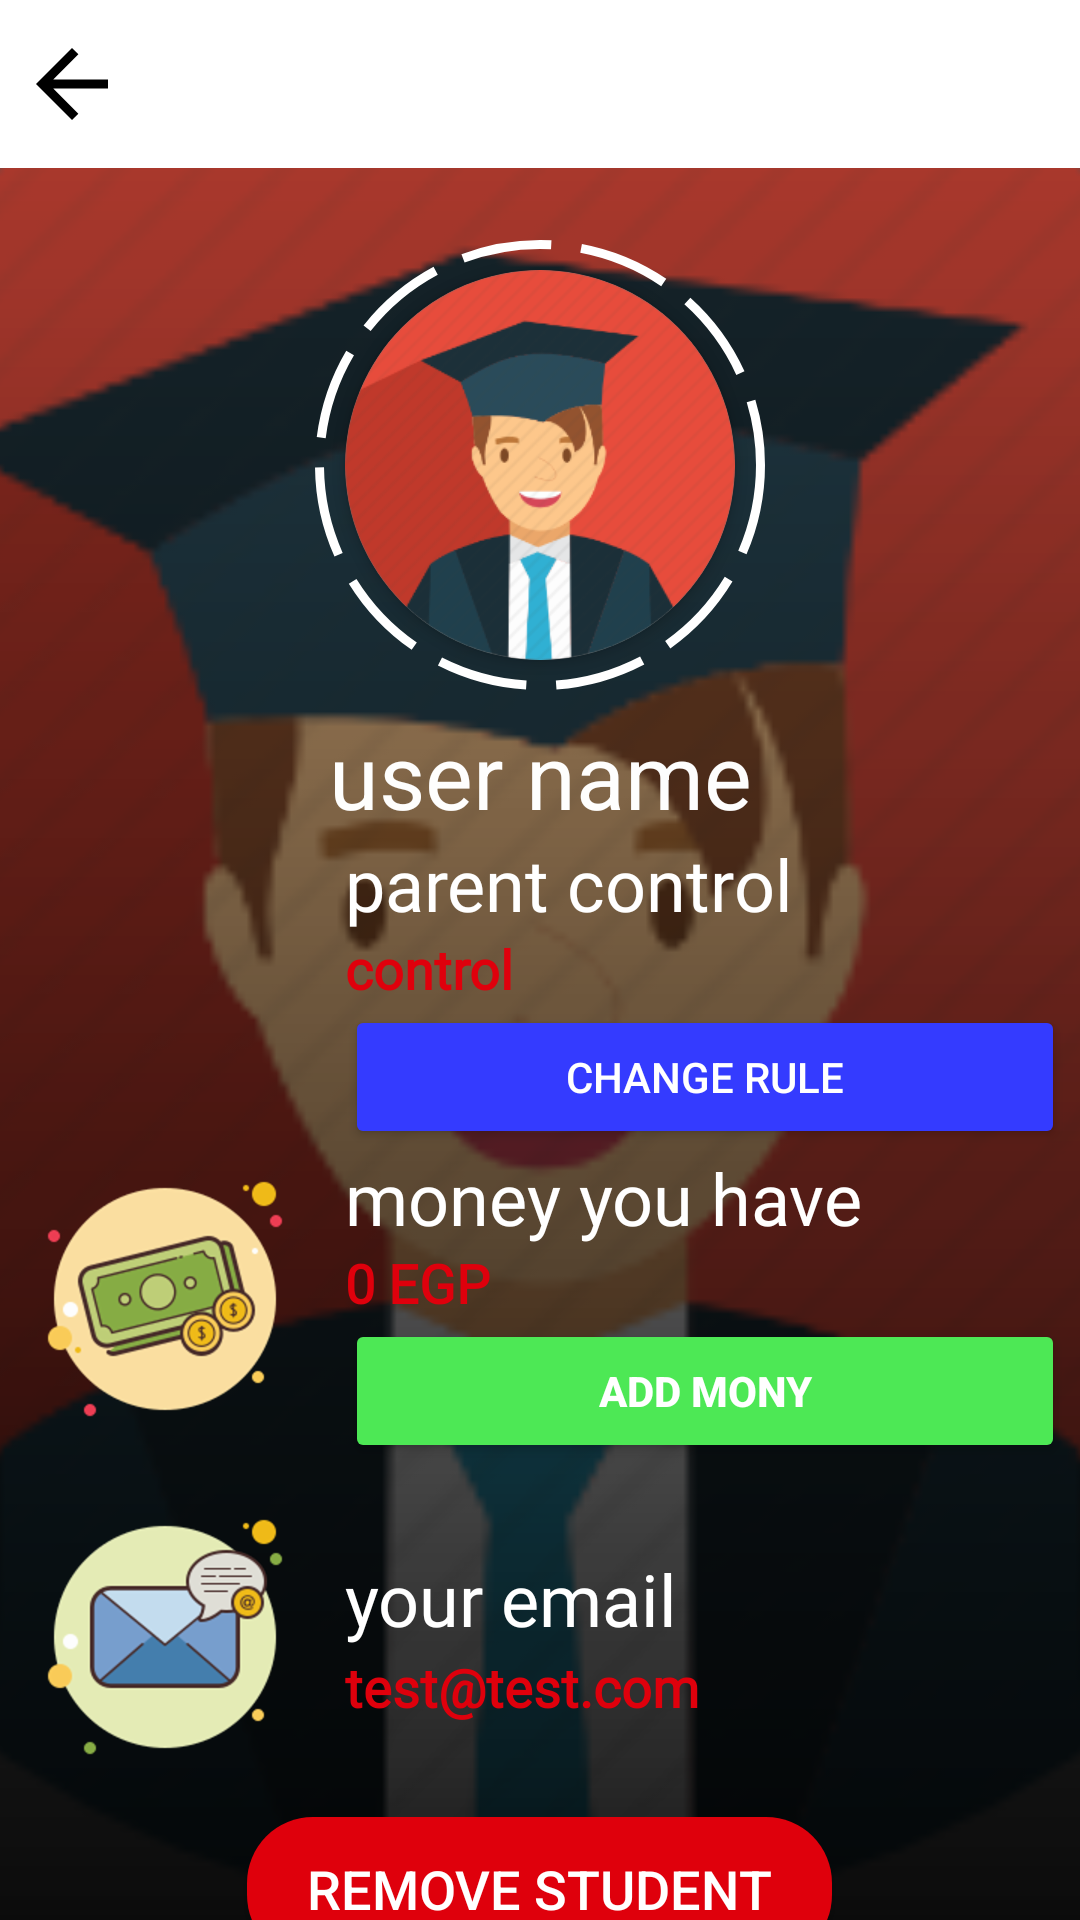

Icon click points for this 1080 x 1920 phone screenshot, format point (x, y):
back: point (72, 84)
us dollar: point (165, 1299)
